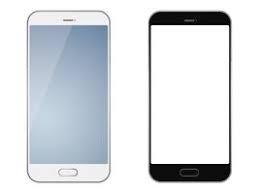Smartphone: (29, 8, 110, 180), (149, 13, 229, 177)
